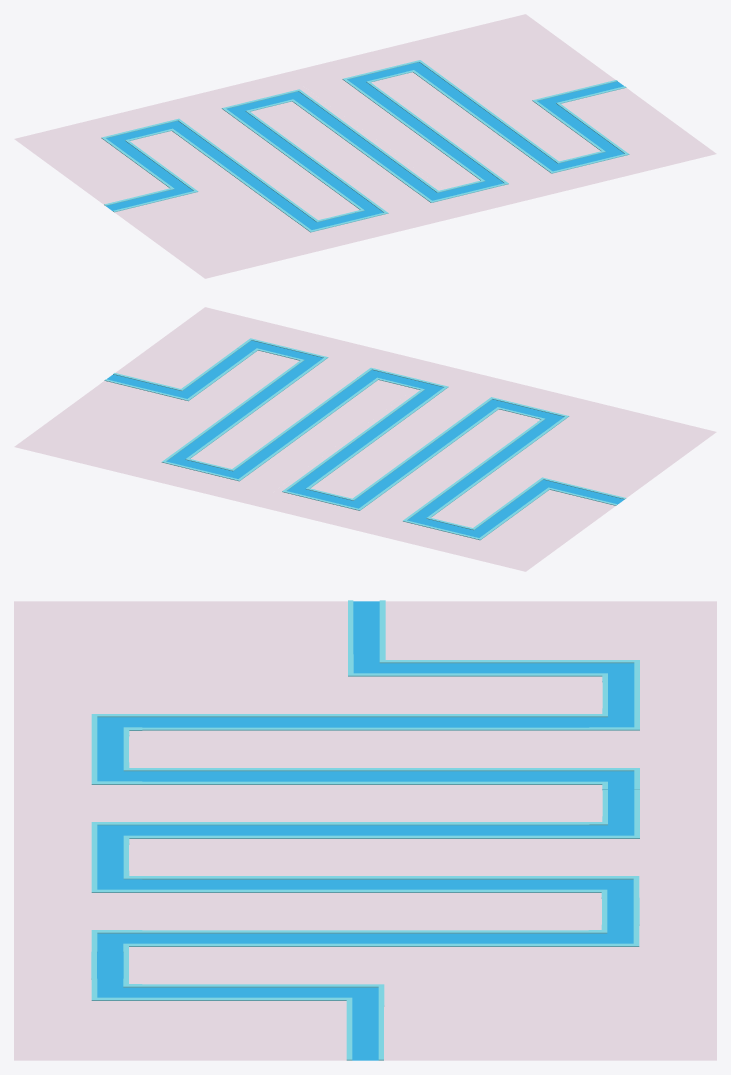
File: Trilha neve j.fbx
3 views of the same model, one above another, from view 1: azimuth 30°, elevation 25°; view 2: azimuth 150°, elevation 25°; view 3: azimuth 270°, elevation 25° (orthographic). The views are drawn at different scales.
Parts seen in each view (by area): view 1: Plane.132; view 2: Plane.132; view 3: Plane.132.
Boxes of the visible parts, x1,y1,x2,y2 form: Plane.132: (14, 14, 716, 278); Plane.132: (14, 307, 716, 571); Plane.132: (14, 600, 716, 1060).
Size of the model in its own units: 15976 by 15.72 by 10332.
